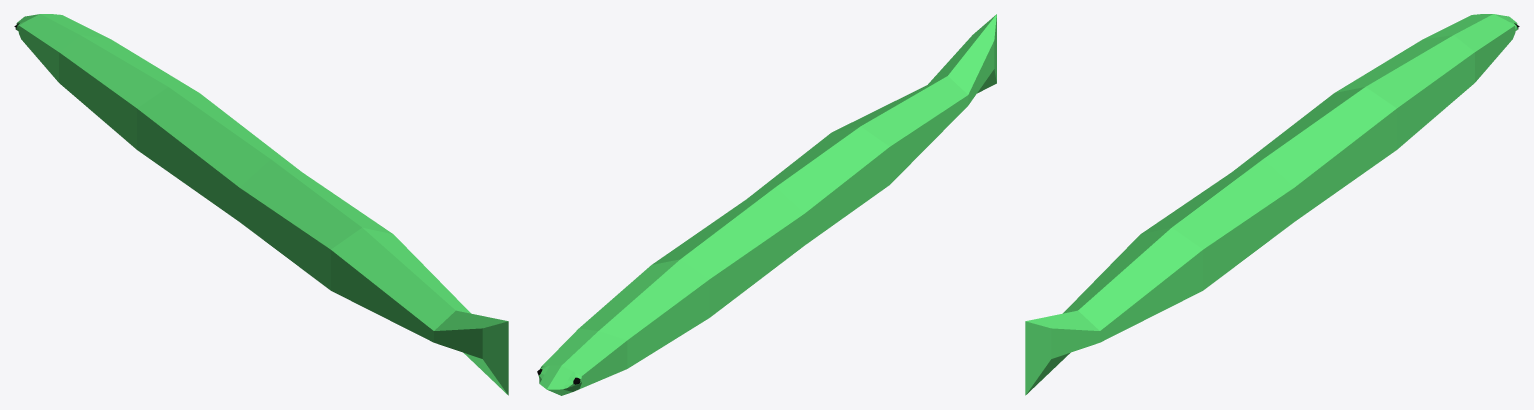
File: longFish.fbx
The picture shows the model from 3 angles, left to right: view 1: azimuth 30°, elevation 25°; view 2: azimuth 150°, elevation 25°; view 3: azimuth 330°, elevation 25°; orthographic projection. The views are drawn at different scales.
Parts seen in each view (by area): view 1: longfish; view 2: longfish; view 3: longfish.
Part boxes in pixels (x1,y1,x2,y2): longfish: (14,14,508,395); longfish: (537,14,996,395); longfish: (1025,14,1519,395).
Bounding box in the file's own units: 283 × 372 × 3787.
